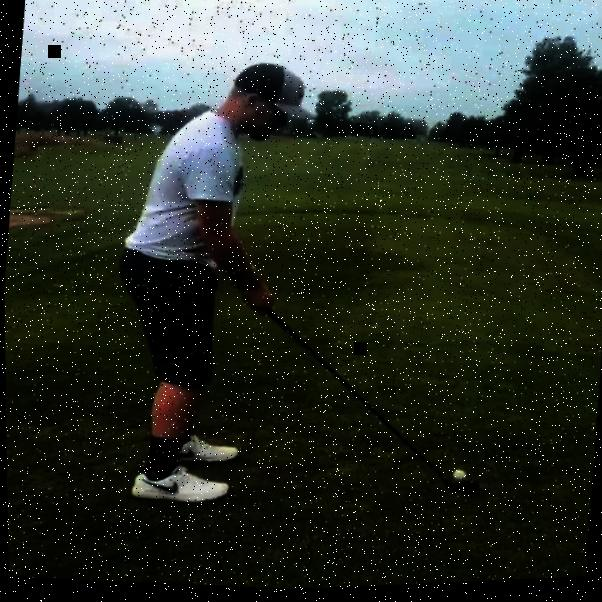ClubHead: (447, 483, 478, 502)
GolfBall: (450, 473, 466, 485)
